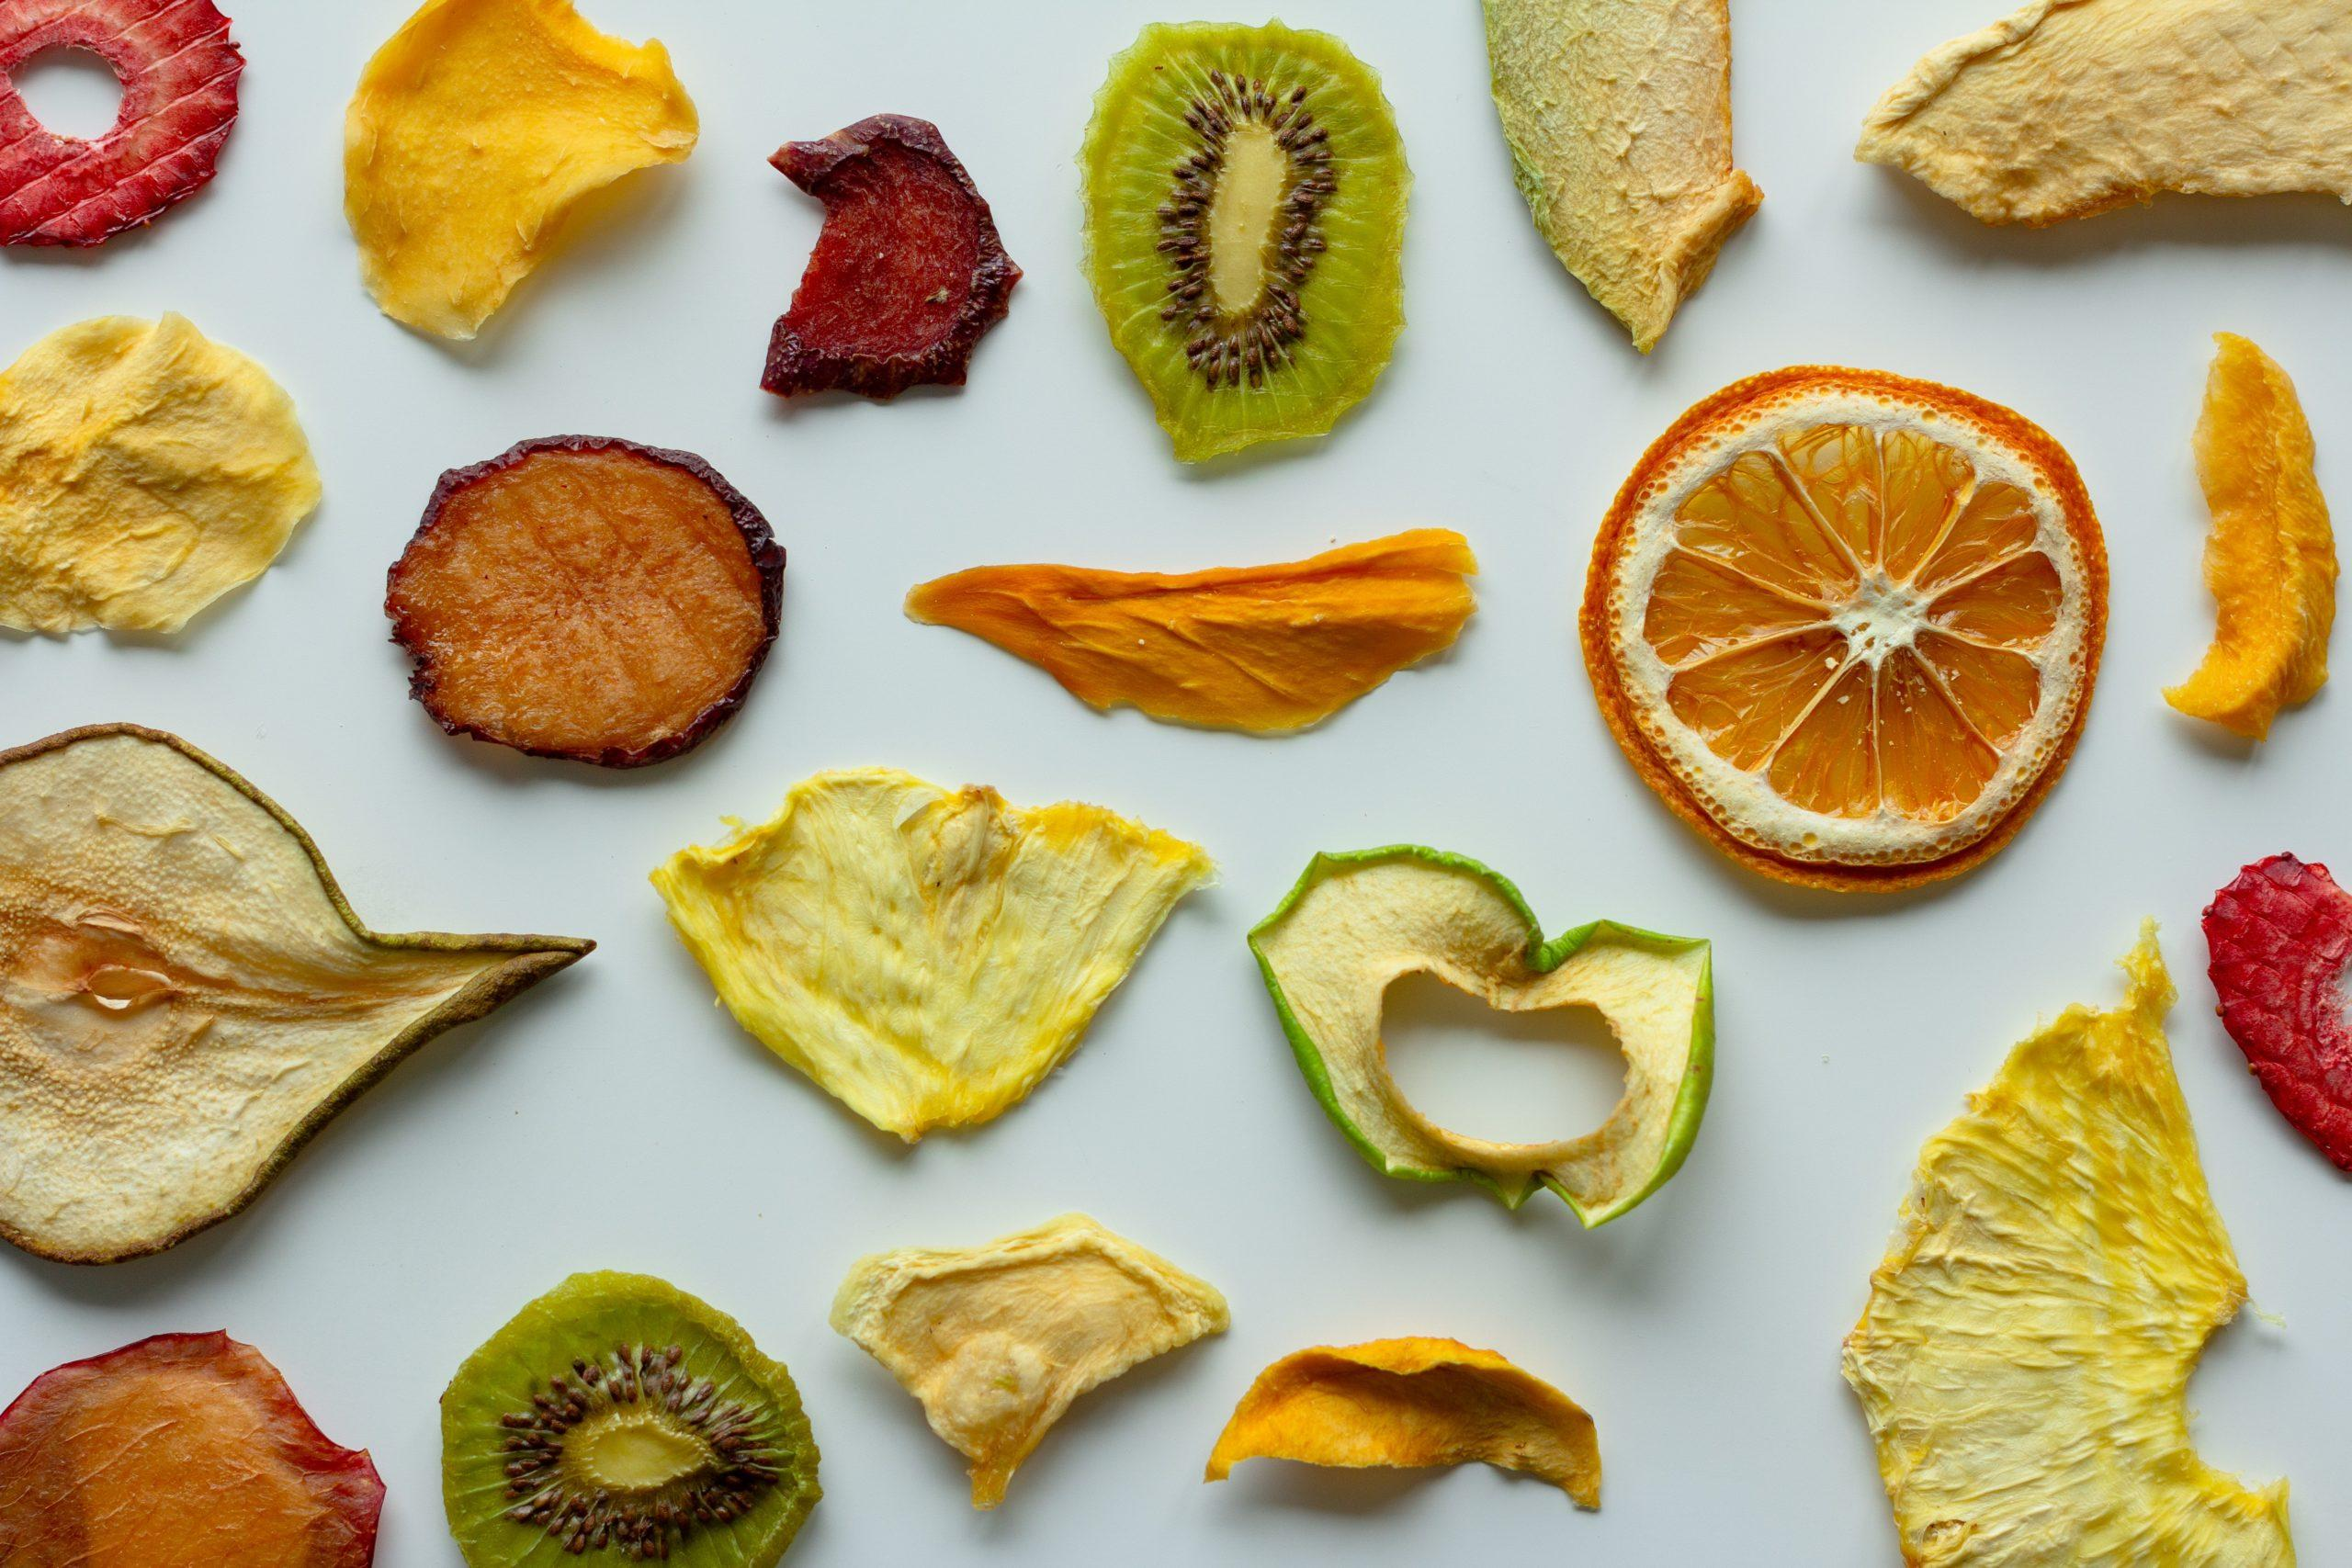organic: (0, 721, 604, 1265), (1843, 914, 2289, 1568), (1577, 360, 2114, 898), (644, 765, 1221, 1150), (1246, 847, 1722, 1230), (1074, 14, 1416, 469), (385, 429, 787, 770), (829, 1213, 1234, 1512), (901, 523, 1477, 733), (341, 0, 695, 341), (434, 1264, 824, 1568), (1846, 0, 2352, 233), (7, 308, 327, 637), (1473, 7, 1760, 353), (0, 1330, 387, 1568), (2158, 329, 2348, 751), (759, 108, 1025, 404), (1199, 1330, 1608, 1512), (0, 0, 241, 250), (2200, 843, 2352, 1188)
